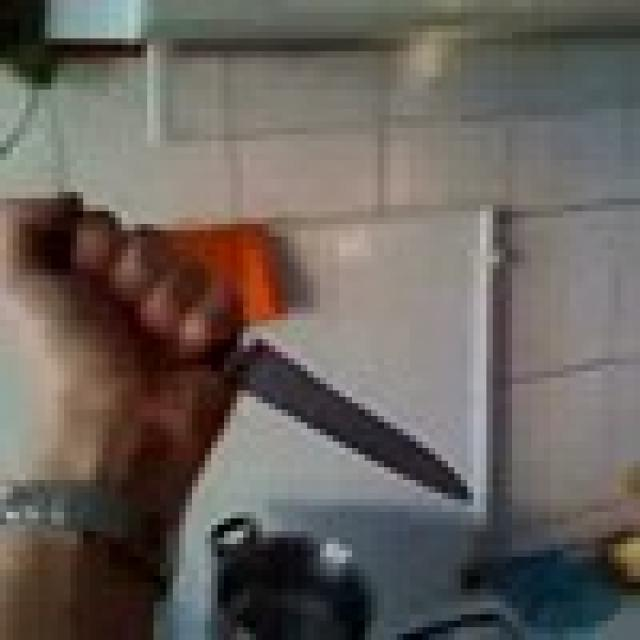Knife: (51, 211, 474, 512)
